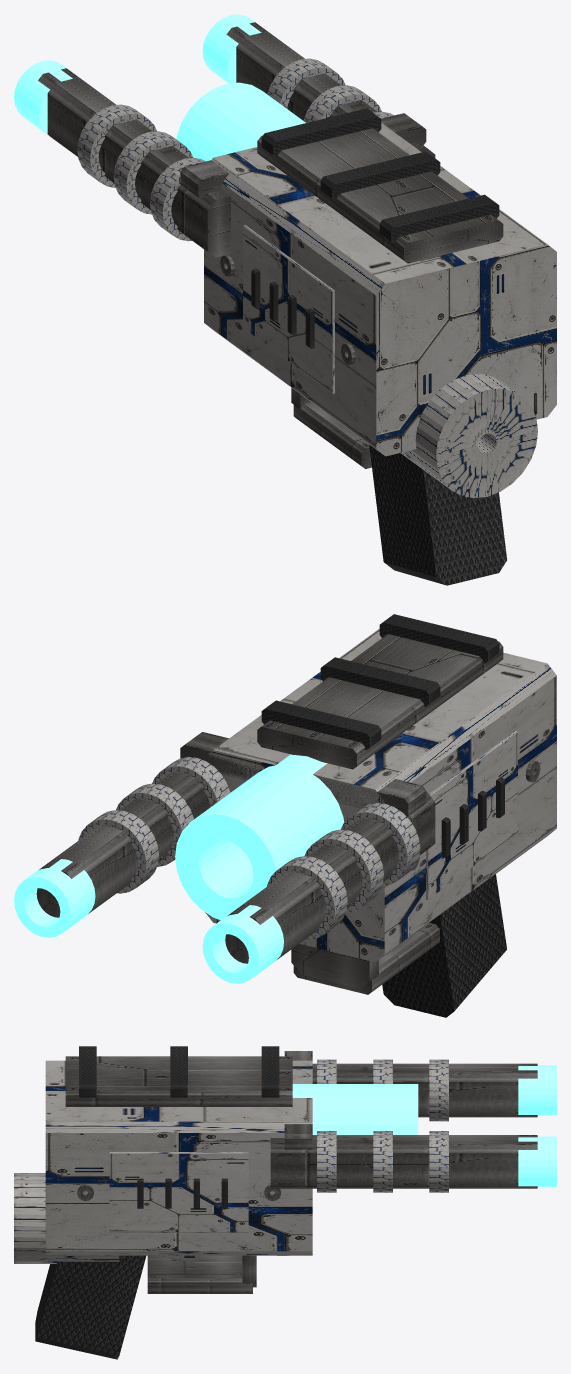
File: arc_cannon.gltf
The picture shows the model from 3 angles, top to bottom: view 1: azimuth 30°, elevation 25°; view 2: azimuth 150°, elevation 25°; view 3: azimuth 270°, elevation 25°; orthographic projection. The views are drawn at different scales.
Parts seen in each view (by area): view 1: Receiver, EmitterFork (×2), Grip, TopRail, Capacitor, CopperInductor (×5), InsetPanel, RailNotch (×3), ChargeCore, LiveTip (×2), CoilBridge, TriggerGuard; view 2: Receiver, ChargeCore, EmitterFork (×2), CopperInductor (×6), TopRail, Grip, LiveTip (×2), InsetPanel, RailNotch (×3), CoilBridge, GuardFront, TriggerGuard; view 3: Receiver, EmitterFork (×2), InsetPanel, TopRail, Grip, CopperInductor (×6), ChargeCore, TriggerGuard, LiveTip (×2), Capacitor, RailNotch (×3), CoilBridge (+1 smaller).
Part boxes in pixels (x1,y1,x2,y2): Receiver: (204,123,556,456); EmitterFork (×2): (38,22,435,257); Grip: (369,445,506,585); TopRail: (257,128,503,263); Capacitor: (400,373,537,498); CopperInductor (×5): (77,58,381,241); InsetPanel: (243,225,334,394); RailNotch (×3): (261,108,499,244); ChargeCore: (176,82,305,161); LiveTip (×2): (14,14,273,135); CoilBridge: (180,113,426,199); TriggerGuard: (293,402,371,468); Receiver: (205,628,556,961); ChargeCore: (175,754,344,920); EmitterFork (×2): (36,772,435,963); CopperInductor (×6): (78,757,420,939); TopRail: (257,634,503,769); Grip: (382,874,506,1017); LiveTip (×2): (14,859,283,983); InsetPanel: (426,730,517,899); RailNotch (×3): (261,614,499,749); CoilBridge: (180,732,426,816); GuardFront: (291,944,378,988); TriggerGuard: (293,923,439,994); Receiver: (45,1060,312,1255); EmitterFork (×2): (270,1063,537,1188); InsetPanel: (109,1152,248,1232); TopRail: (65,1056,292,1106); Grip: (35,1255,146,1359); CopperInductor (×6): (317,1059,448,1192); ChargeCore: (292,1084,418,1134); TriggerGuard: (147,1255,252,1293); LiveTip (×2): (518,1065,556,1186); Capacitor: (14,1173,119,1263); RailNotch (×3): (79,1046,279,1097); CoilBridge: (284,1051,312,1149).
Bounding box in the file's own units: 0.246 × 0.3346 × 0.5794.
Materials: 5 (4 with a texture image).
